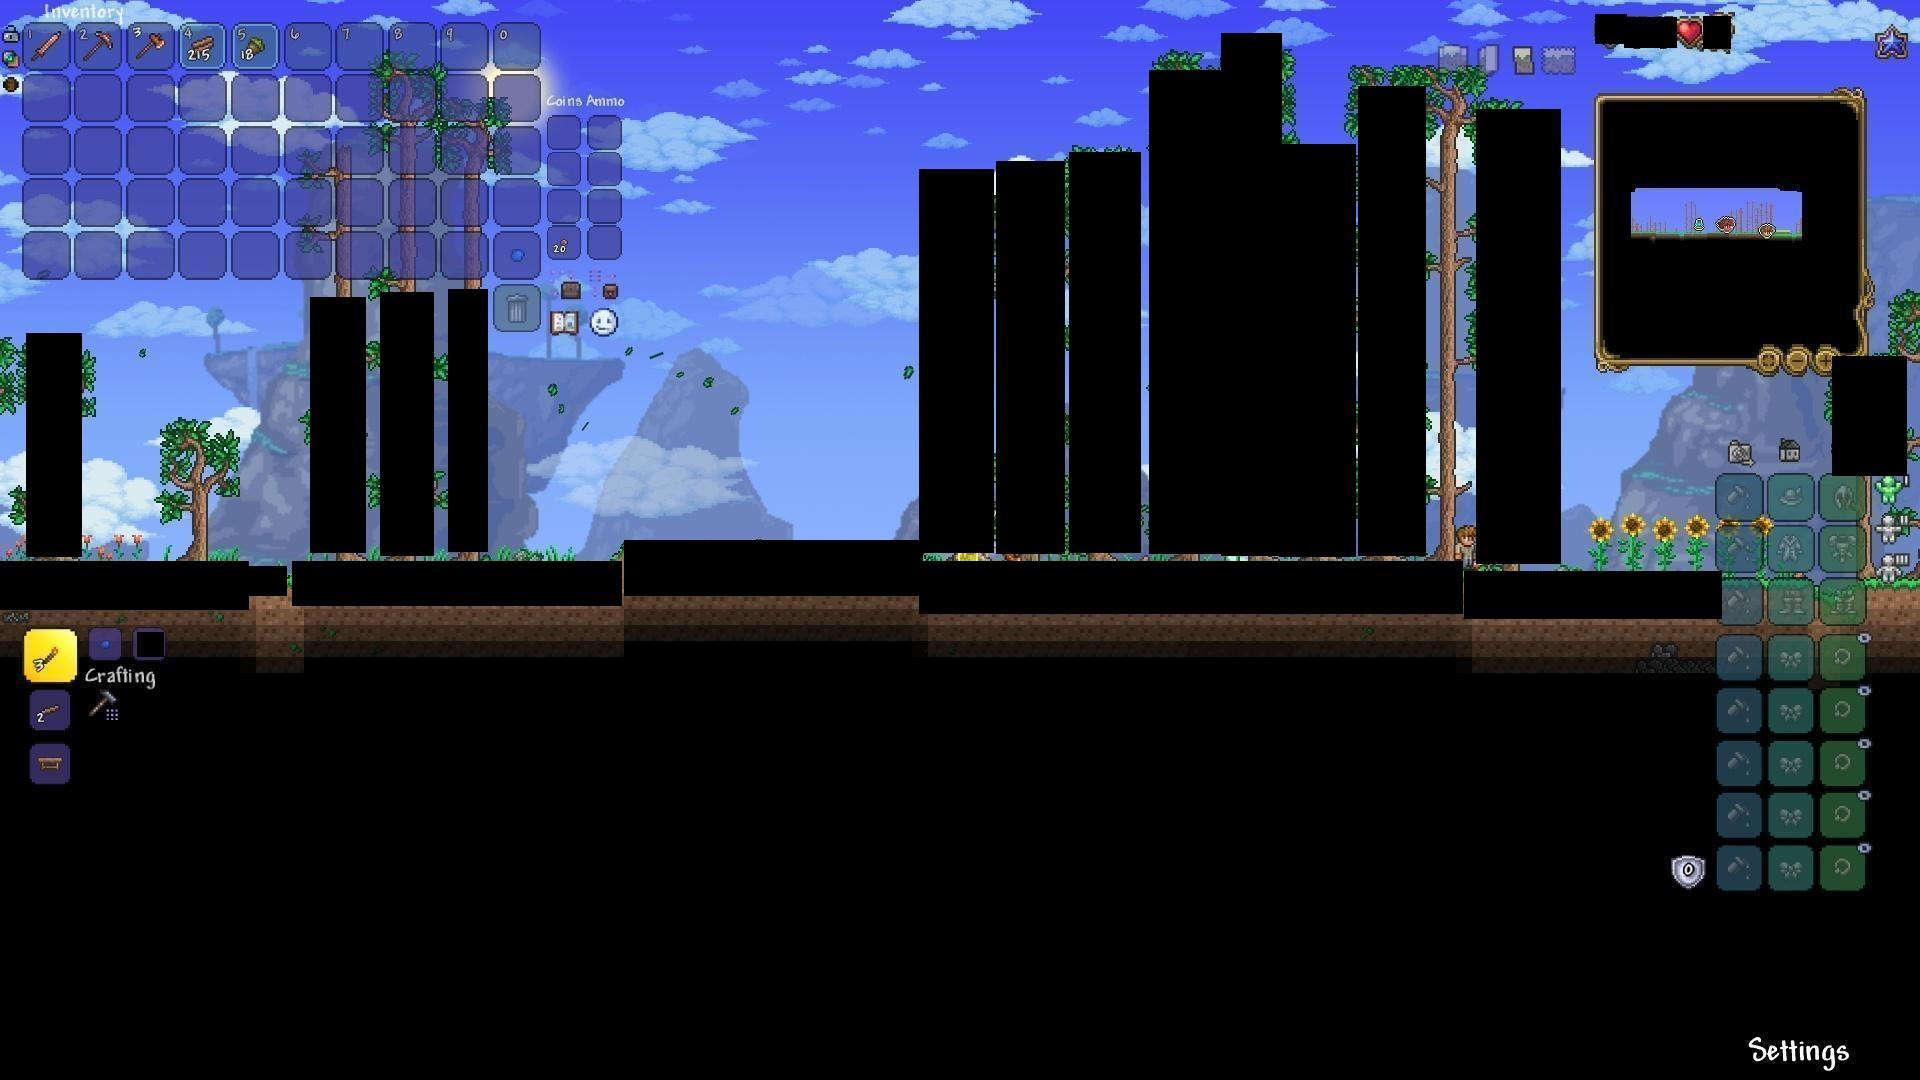heart: (1675, 16, 1702, 47)
tree: (1424, 105, 1476, 558), (160, 407, 233, 556)
wood: (189, 32, 216, 61)
workbench: (36, 753, 67, 775)
